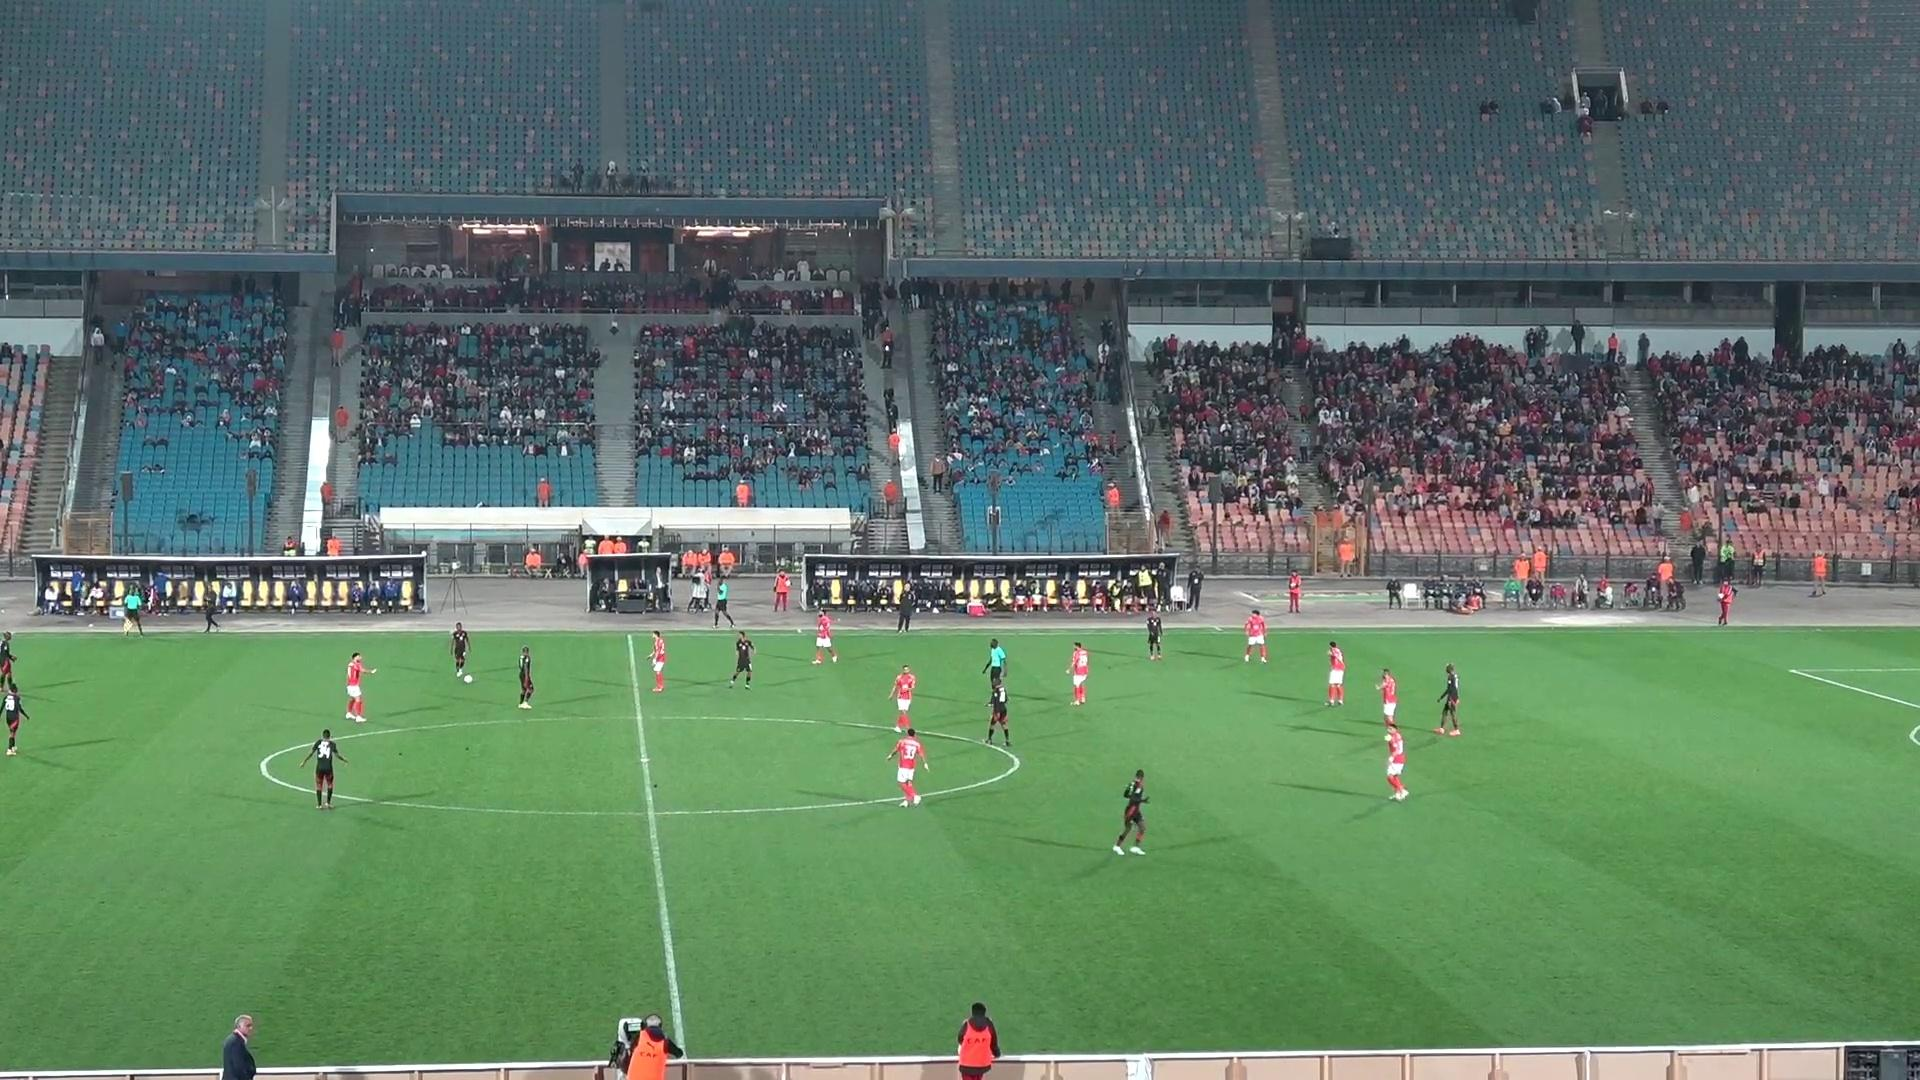Refree: (980, 640, 1011, 687), (712, 576, 733, 626), (123, 583, 142, 634)
Team1: (887, 727, 927, 806), (1385, 721, 1410, 800), (345, 651, 373, 723), (889, 666, 916, 732), (1320, 641, 1346, 707), (1067, 642, 1091, 705), (1375, 669, 1400, 727), (1242, 608, 1269, 661), (647, 630, 669, 692), (812, 611, 836, 665)
Team2: (262, 729, 349, 808), (1112, 770, 1149, 855), (0, 676, 29, 756), (1432, 662, 1462, 736), (981, 684, 1009, 746), (447, 621, 473, 683), (728, 630, 756, 688), (516, 645, 537, 709), (0, 632, 18, 691), (1146, 611, 1163, 661)
